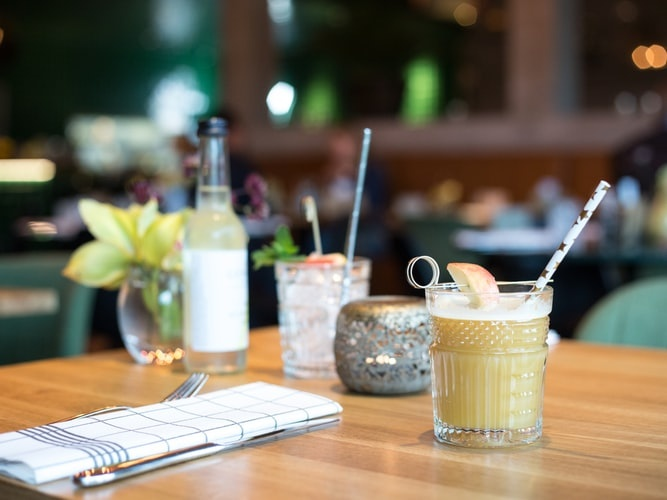whiskey: (422, 268, 558, 451)
